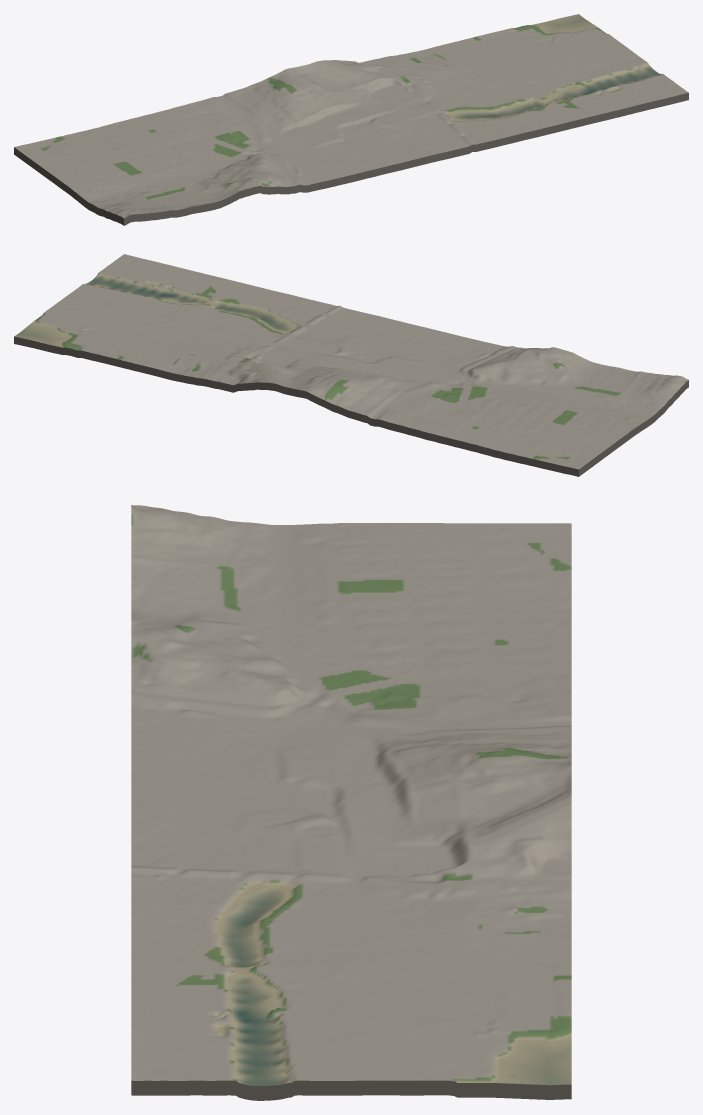
File: terrain_3_4.glb
The picture shows the model from 3 angles, top to bottom: view 1: azimuth 30°, elevation 25°; view 2: azimuth 150°, elevation 25°; view 3: azimuth 270°, elevation 25°; orthographic projection. The views are drawn at different scales.
Parts seen in each view (by area): view 1: terrain_3_4; view 2: terrain_3_4; view 3: terrain_3_4.
Part boxes in pixels (x1,y1,x2,y2): terrain_3_4: [14, 14, 688, 225]; terrain_3_4: [14, 254, 688, 476]; terrain_3_4: [131, 505, 571, 1100].
Bounding box in the file's own units: 3200 × 134 × 1080.
